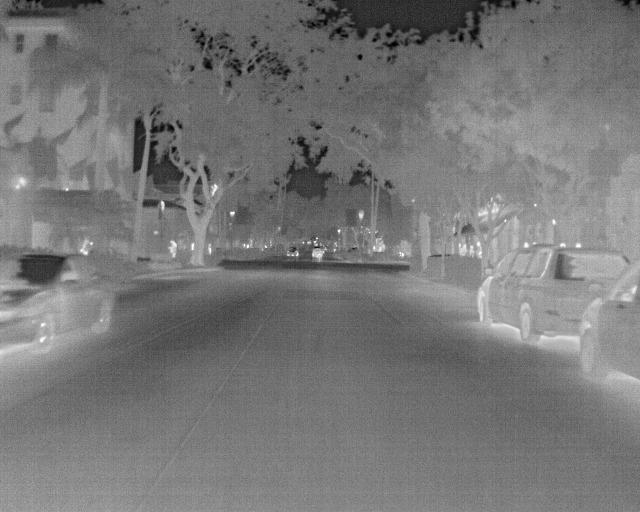car: (474, 242, 634, 344), (1, 251, 115, 353), (577, 256, 638, 388), (284, 243, 304, 260), (308, 243, 326, 261)
